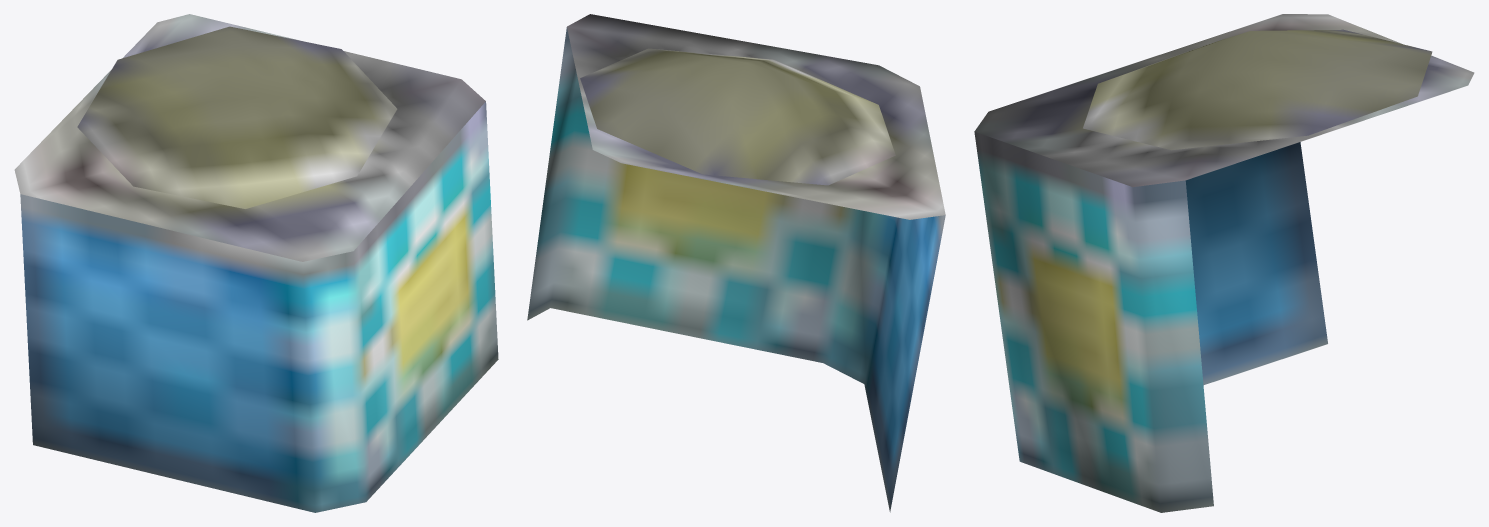
File: fg_timecapsule_out.dae
3 views of the same model, side by side, from view 1: azimuth 30°, elevation 25°; view 2: azimuth 150°, elevation 25°; view 3: azimuth 270°, elevation 25° (orthographic). The views are drawn at different scales.
Parts seen in each view (by area): view 1: fg_timecapsule_out; view 2: fg_timecapsule_out; view 3: fg_timecapsule_out.
Boxes of the visible parts, box(x1,y1,x2,y2) form: fg_timecapsule_out: box(14, 14, 498, 512); fg_timecapsule_out: box(527, 14, 945, 512); fg_timecapsule_out: box(974, 14, 1474, 512).
Size of the model in its own units: 15.77 by 13.04 by 14.1.
Materials: 1 (1 with a texture image).
